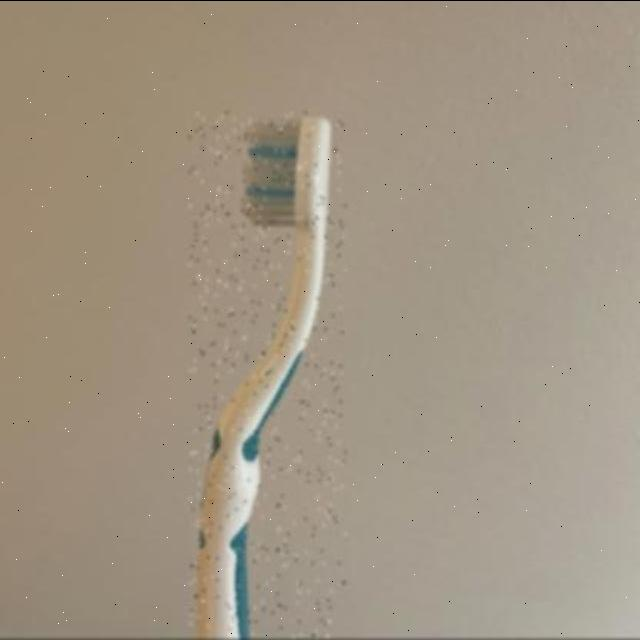toothbrush: (190, 110, 346, 640)
